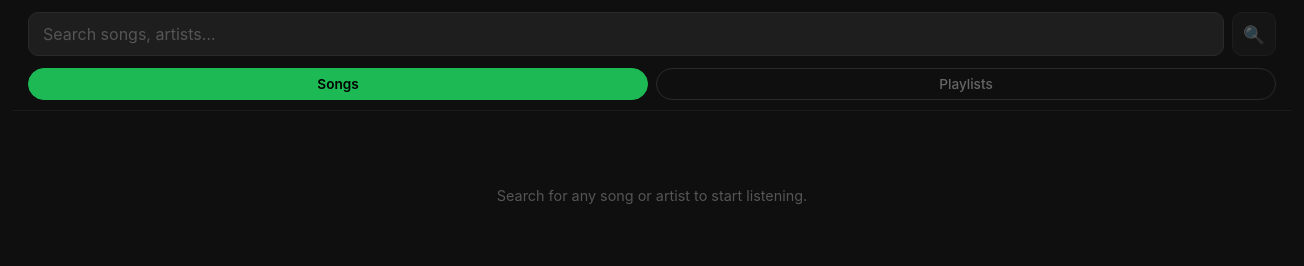
SearchView › searches playlists and renders playlist cards
Click the tab "Playlists" at (966, 84), box [656, 68, 1276, 100]
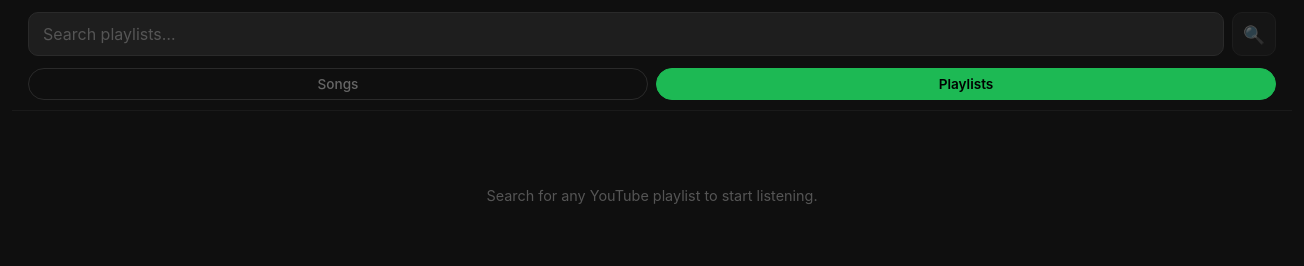
Type "chill" into the search field with placeholder "Search playlists…" at (626, 34), box [28, 12, 1224, 56]
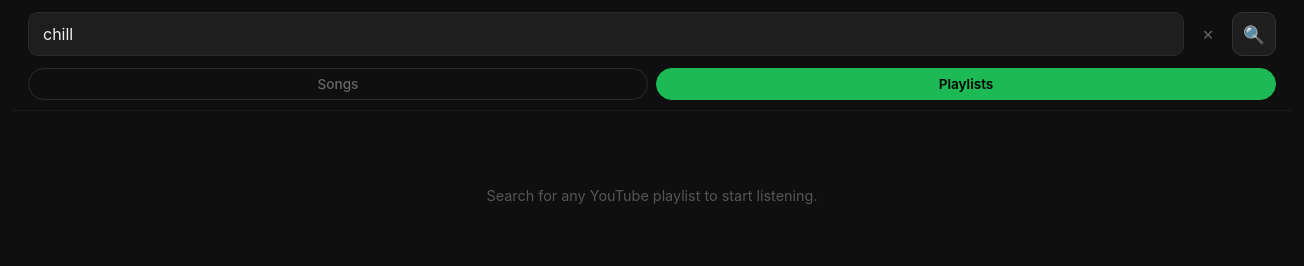
Submit the form with placeholder "search playlists", box [12, 0, 1292, 68]
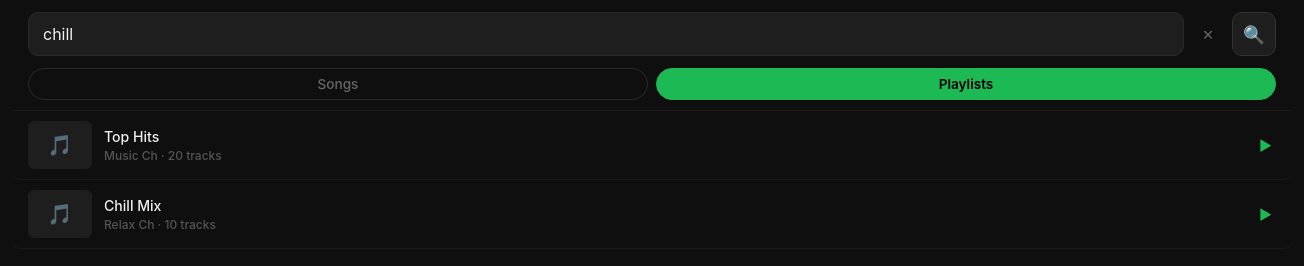
Result: the text "Top Hits" is shown at [104, 128, 159, 144]
Result: the text "Chill Mix" is shown at [104, 196, 161, 214]
